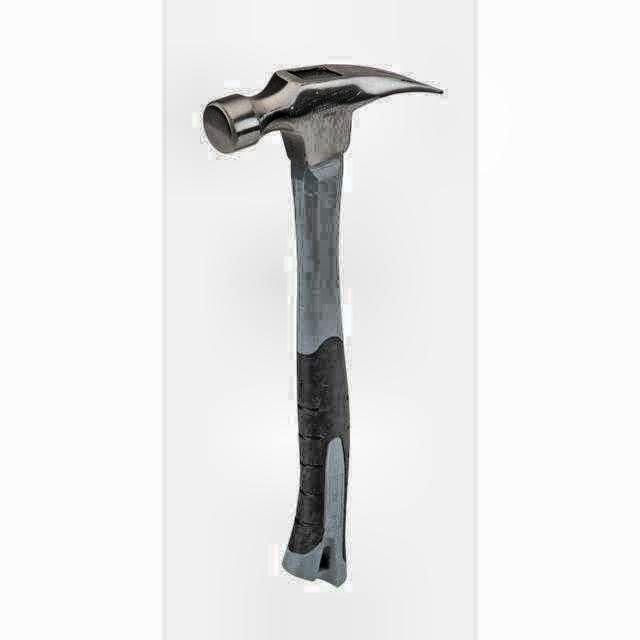hammer: (202, 65, 440, 583)
